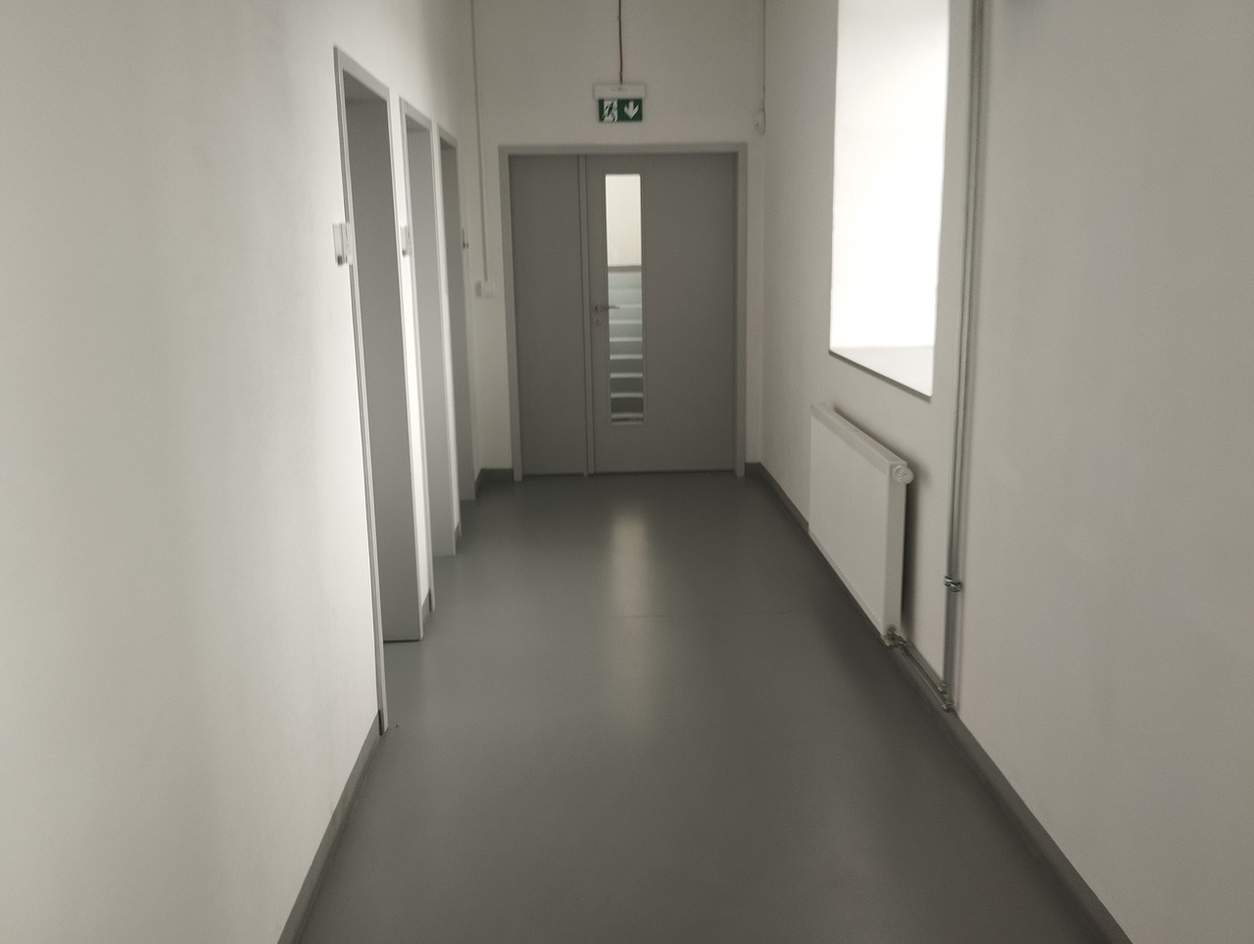Door-handle: (943, 575, 964, 590)
